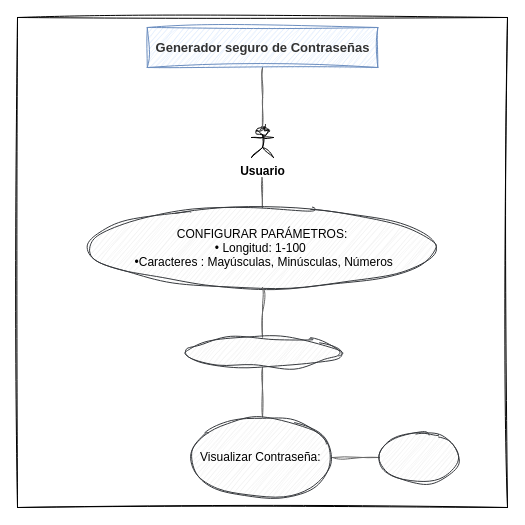
Some shapes in this 525 by 525 pixel diagram are drawn without their labels. Each missing label, with the centre of its shape:
Copiar Contraseña: (x=419, y=457)
GENERAR CONTRASEÑA: (x=262, y=352)
